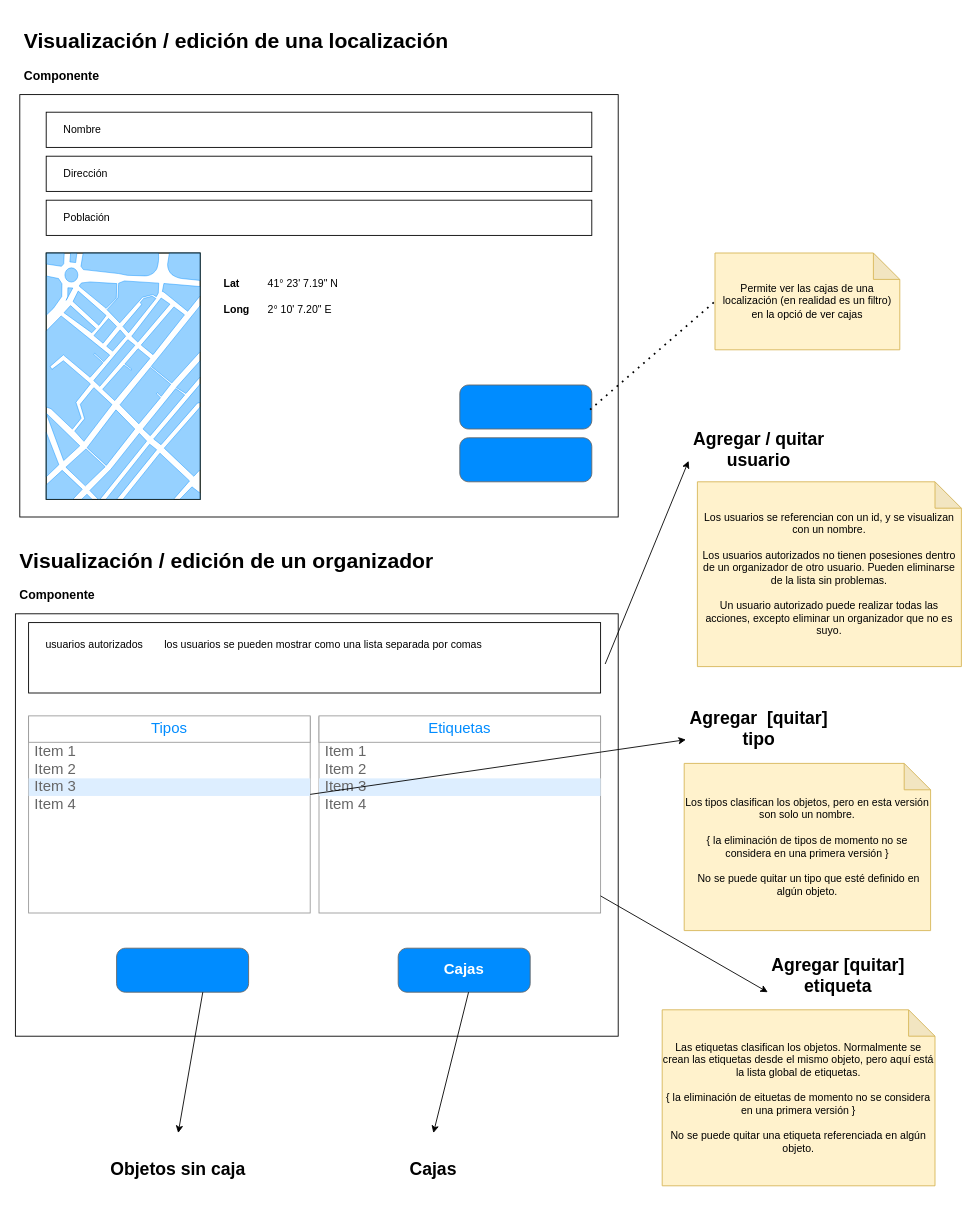
The diagram is 977 pixels wide and 1218 high, and some of its shapes have lost their labels. Here are the shapes that lost their labels. From the top down, the box of each, then its label:
(459, 384, 592, 429): Ver cajas
(459, 437, 592, 482): Guardar
(116, 947, 249, 992): Objetos
